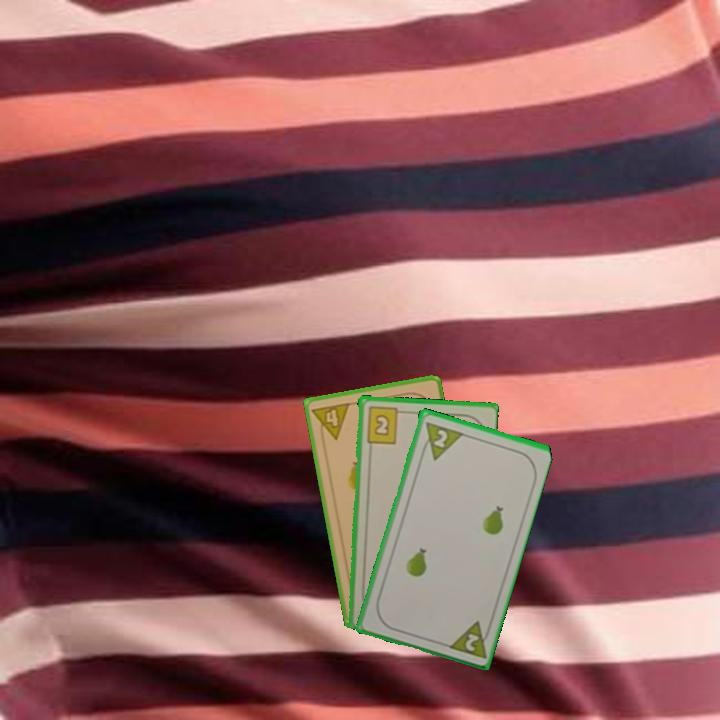2b: (363, 403, 406, 446)
2p: (444, 617, 495, 661), (417, 418, 464, 463)
4p: (308, 399, 353, 445)
